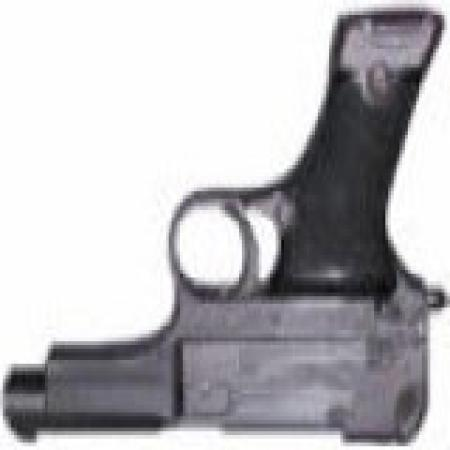Pistol: (5, 15, 441, 446)
